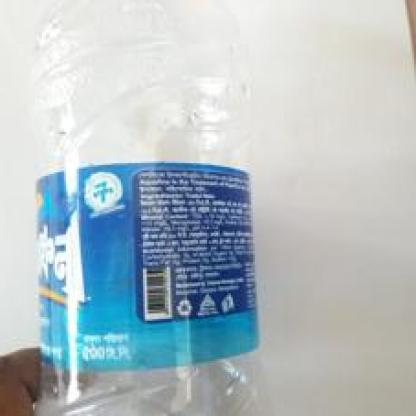bottle: (33, 0, 279, 414)
